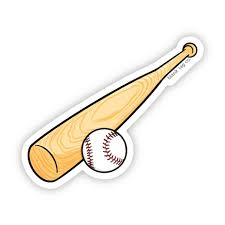baseball bat: (27, 40, 200, 182)
